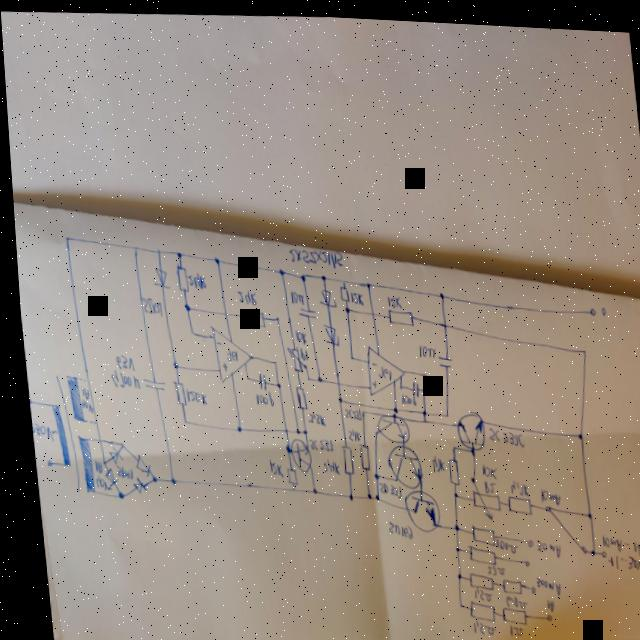capacitor: (293, 303, 312, 318), (432, 350, 448, 366), (404, 377, 414, 398), (251, 371, 262, 390)
crossover: (365, 306, 372, 315), (436, 318, 443, 326), (91, 436, 97, 445), (329, 377, 335, 385), (277, 425, 284, 431), (219, 309, 224, 315)
diode: (126, 449, 146, 476), (312, 284, 333, 307), (317, 321, 335, 346), (147, 265, 165, 289), (125, 474, 142, 495), (100, 445, 117, 465), (97, 466, 111, 487)
junction: (109, 490, 118, 500), (162, 476, 170, 486), (179, 302, 186, 312), (445, 518, 452, 528), (209, 255, 216, 265), (570, 426, 577, 436), (274, 265, 281, 275), (229, 422, 236, 432), (60, 234, 67, 244), (578, 505, 585, 515), (416, 382, 423, 392), (279, 441, 285, 452), (172, 249, 179, 258), (576, 342, 583, 351), (463, 442, 470, 451), (446, 540, 452, 550), (448, 567, 454, 577), (296, 270, 302, 280), (113, 439, 119, 449), (145, 473, 151, 483), (269, 380, 276, 388), (331, 393, 338, 401), (343, 351, 350, 359), (434, 288, 441, 296), (444, 441, 451, 449), (339, 303, 346, 311), (445, 487, 452, 495), (366, 490, 373, 498), (167, 361, 173, 369), (304, 485, 310, 493), (340, 490, 346, 498), (360, 279, 366, 287), (128, 244, 134, 252), (582, 543, 588, 551), (366, 469, 372, 477), (359, 488, 365, 496), (449, 598, 455, 605), (316, 272, 322, 279), (288, 426, 294, 433), (415, 406, 421, 413), (295, 426, 302, 432), (463, 472, 469, 479), (270, 313, 275, 321), (311, 373, 316, 381), (95, 459, 100, 467), (386, 404, 392, 410), (416, 415, 421, 422), (417, 368, 422, 375), (152, 248, 157, 254), (185, 329, 190, 335), (267, 358, 272, 364), (88, 419, 93, 425), (80, 377, 85, 383), (284, 485, 289, 490), (177, 418, 181, 424), (439, 408, 443, 414), (368, 427, 372, 433), (240, 373, 244, 379), (355, 407, 359, 413), (338, 276, 342, 282)
resistor: (462, 480, 497, 519), (458, 594, 489, 621), (459, 566, 487, 590), (462, 519, 490, 543), (458, 540, 488, 562), (234, 306, 262, 328), (381, 305, 410, 326), (498, 490, 526, 511), (281, 342, 301, 371), (492, 602, 520, 622), (490, 572, 516, 592), (171, 264, 187, 293), (334, 441, 348, 473), (167, 379, 181, 406), (440, 453, 453, 482), (351, 440, 364, 468), (290, 384, 300, 408), (278, 465, 291, 483), (334, 284, 346, 301)
source: (137, 375, 160, 391)
switch: (507, 497, 585, 619)
terminal: (584, 301, 592, 312), (591, 543, 599, 554), (39, 459, 46, 469), (23, 397, 28, 407), (393, 380, 398, 387)
text: (284, 243, 340, 267), (594, 527, 636, 552), (482, 421, 520, 446), (599, 547, 636, 570), (104, 367, 135, 390), (134, 296, 160, 320), (526, 570, 553, 592), (25, 421, 52, 443), (527, 533, 553, 555), (379, 517, 406, 537), (531, 481, 555, 502), (301, 433, 328, 451), (463, 615, 489, 633), (179, 386, 202, 406), (501, 472, 523, 492), (371, 478, 395, 496), (486, 533, 510, 551), (182, 271, 204, 290), (313, 455, 335, 474), (410, 339, 433, 357), (299, 407, 322, 425), (232, 287, 253, 305), (109, 353, 130, 371), (494, 589, 517, 605), (260, 457, 277, 477), (248, 390, 269, 406), (88, 475, 106, 493), (473, 459, 491, 477), (337, 402, 355, 420), (423, 450, 439, 470), (464, 583, 484, 598), (394, 389, 411, 405), (219, 345, 235, 362), (289, 325, 304, 343), (478, 559, 497, 573), (110, 464, 126, 480), (372, 361, 387, 378), (340, 425, 355, 441), (345, 288, 360, 304), (383, 292, 397, 307), (499, 620, 514, 634), (285, 289, 299, 303), (293, 344, 305, 360), (477, 475, 490, 489), (75, 398, 86, 412), (538, 593, 546, 608), (75, 387, 83, 401), (88, 460, 97, 472), (216, 361, 223, 371), (596, 301, 602, 311), (365, 377, 372, 385), (366, 357, 372, 364), (211, 339, 217, 346)
transformer: (37, 365, 93, 497)
transistor: (396, 485, 434, 531), (379, 440, 417, 486), (449, 406, 480, 447), (369, 410, 404, 442), (283, 434, 306, 472)
